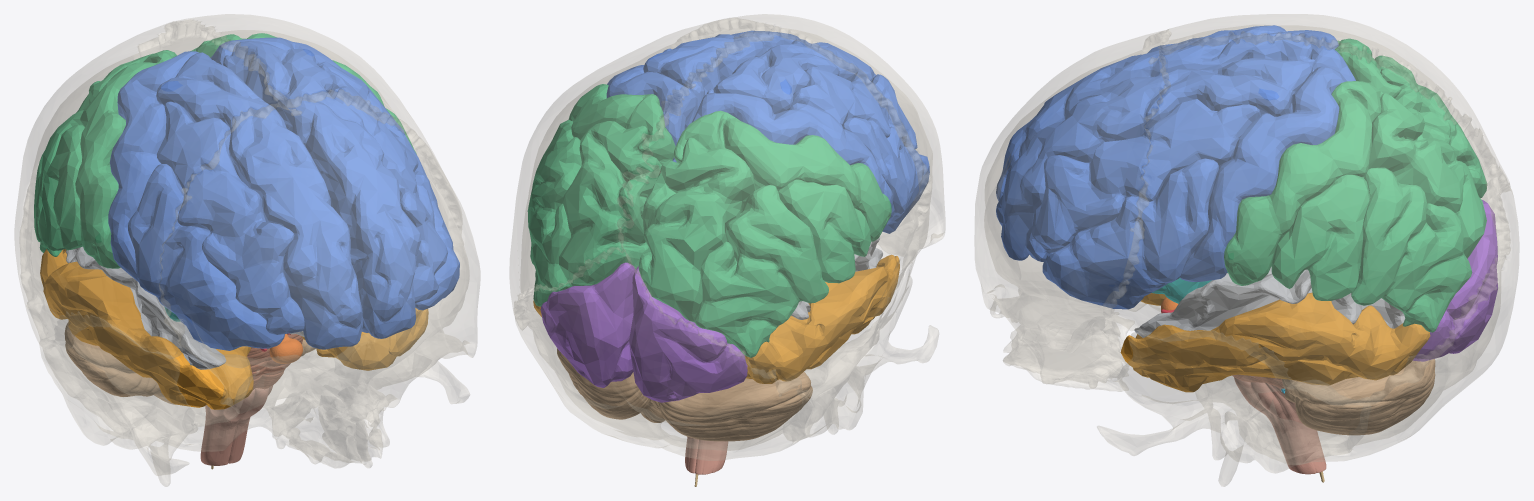
The model's file is bodyparts3d-brain-skull.glb.
3 views of the same model, side by side, from view 1: azimuth 30°, elevation 25°; view 2: azimuth 150°, elevation 25°; view 3: azimuth 270°, elevation 25° (orthographic). The views are drawn at different scales.
Parts seen in each view (by area): view 1: neurocranium, frontal_r, frontal_l, temporal_r, parietal_r, deep_r, cerebellum, medulla, temporal_l, pons, parietal_l, pituitary; view 2: neurocranium, parietal_r, parietal_l, frontal_r, cerebellum, occipital_r, temporal_r, occipital_l, frontal_l, medulla, deep_r; view 3: neurocranium, frontal_l, parietal_l, temporal_l, frontal_r, cerebellum, deep_l, parietal_r, occipital_l, medulla, insula_l.
Part boxes in pixels (x1=…): neurocranium: x1=14, y1=14, x2=480, y2=486; frontal_r: x1=108, y1=51, x2=362, y2=350; frontal_l: x1=210, y1=37, x2=459, y2=338; temporal_r: x1=40, y1=249, x2=253, y2=409; parietal_r: x1=34, y1=50, x2=176, y2=268; deep_r: x1=66, y1=246, x2=304, y2=369; cerebellum: x1=64, y1=322, x2=315, y2=404; medulla: x1=200, y1=385, x2=272, y2=465; temporal_l: x1=301, y1=308, x2=428, y2=370; pons: x1=247, y1=334, x2=303, y2=389; parietal_l: x1=190, y1=33, x2=416, y2=154; pituitary: x1=269, y1=334, x2=302, y2=363; neurocranium: x1=509, y1=14, x2=945, y2=460; parietal_r: x1=638, y1=110, x2=891, y2=357; parietal_l: x1=527, y1=84, x2=675, y2=306; frontal_r: x1=692, y1=39, x2=929, y2=233; cerebellum: x1=557, y1=348, x2=812, y2=441; occipital_r: x1=629, y1=266, x2=747, y2=402; temporal_r: x1=744, y1=254, x2=899, y2=383; occipital_l: x1=540, y1=262, x2=635, y2=387; frontal_l: x1=606, y1=30, x2=799, y2=162; medulla: x1=685, y1=436, x2=728, y2=474; deep_r: x1=791, y1=237, x2=882, y2=319; neurocranium: x1=974, y1=14, x2=1519, y2=486; frontal_l: x1=996, y1=58, x2=1344, y2=309; parietal_l: x1=1224, y1=81, x2=1486, y2=332; temporal_l: x1=1120, y1=292, x2=1430, y2=392; frontal_r: x1=996, y1=25, x2=1355, y2=201; cerebellum: x1=1282, y1=359, x2=1435, y2=435; deep_l: x1=1134, y1=266, x2=1405, y2=337; parietal_r: x1=1335, y1=38, x2=1487, y2=198; occipital_l: x1=1413, y1=235, x2=1497, y2=361; medulla: x1=1234, y1=377, x2=1326, y2=474; insula_l: x1=1152, y1=272, x2=1227, y2=303.
Bounding box in the file's own units: 0.151 × 0.1777 × 0.1954.
